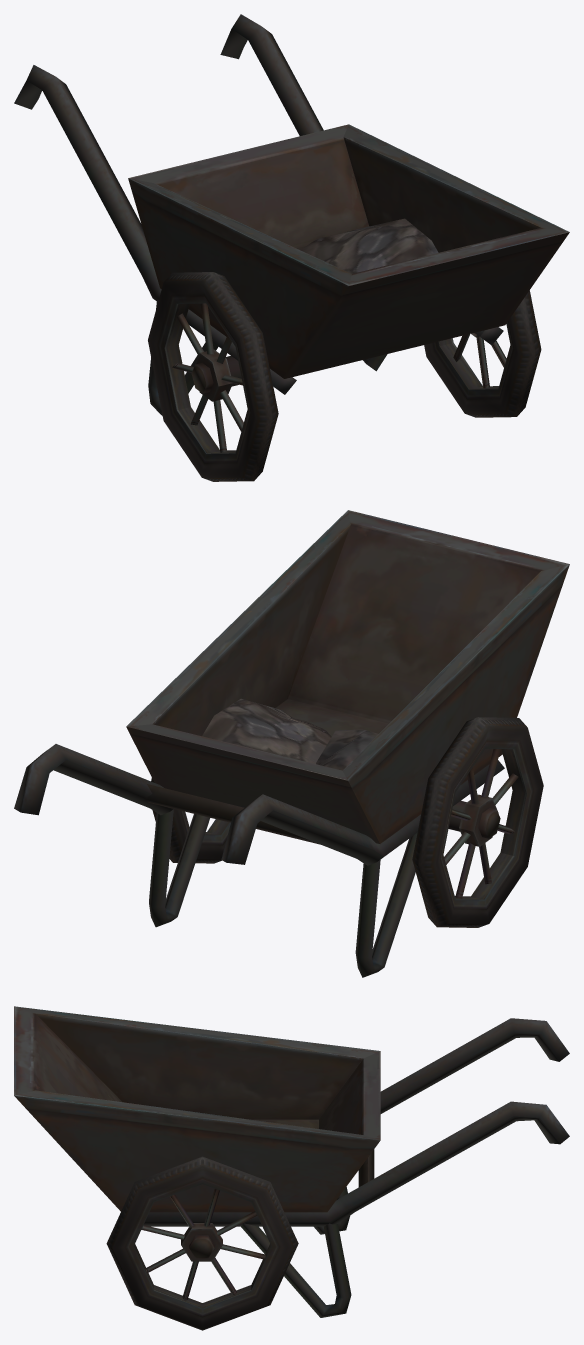
The model's file is mi_ruin005.FBX.
3 views of the same model, one above another, from view 1: azimuth 30°, elevation 25°; view 2: azimuth 150°, elevation 25°; view 3: azimuth 270°, elevation 25° (orthographic). The views are drawn at different scales.
Parts seen in each view (by area): view 1: mi_ruin005; view 2: mi_ruin005; view 3: mi_ruin005.
Part boxes in pixels (box(x1,y1,x2,y2)): mi_ruin005: box(14, 14, 569, 481); mi_ruin005: box(14, 510, 569, 977); mi_ruin005: box(14, 1006, 569, 1330).
Size of the model in its own units: 1.01 by 0.9034 by 2.01.
Materials: 1 (1 with a texture image).
